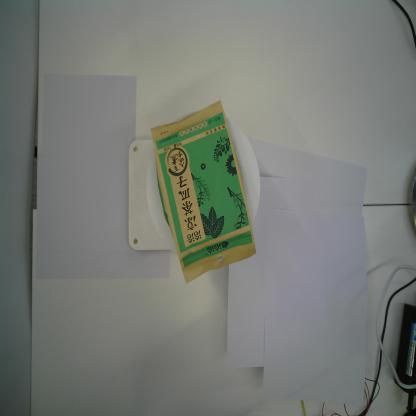Dried Food: (150, 99, 257, 285)
